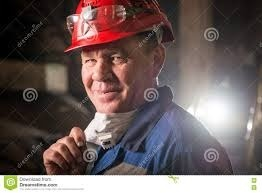helmet: (65, 1, 173, 56)
person with partial safety: (61, 1, 235, 174)
